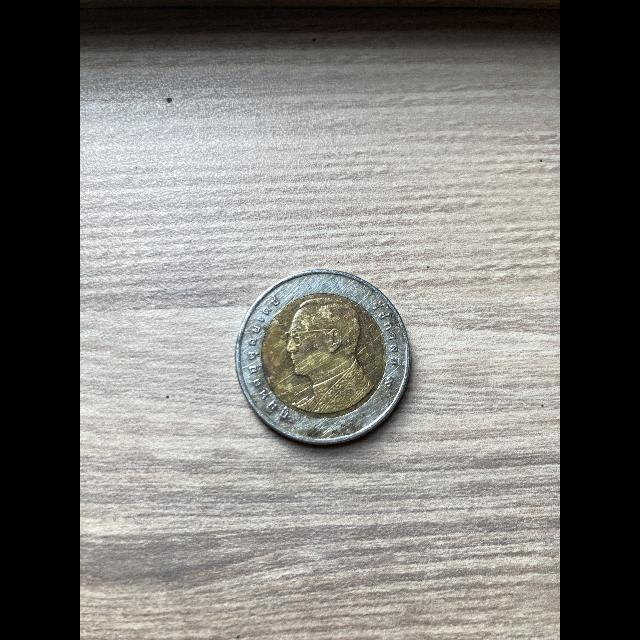10 Bath: (239, 270, 415, 449)
